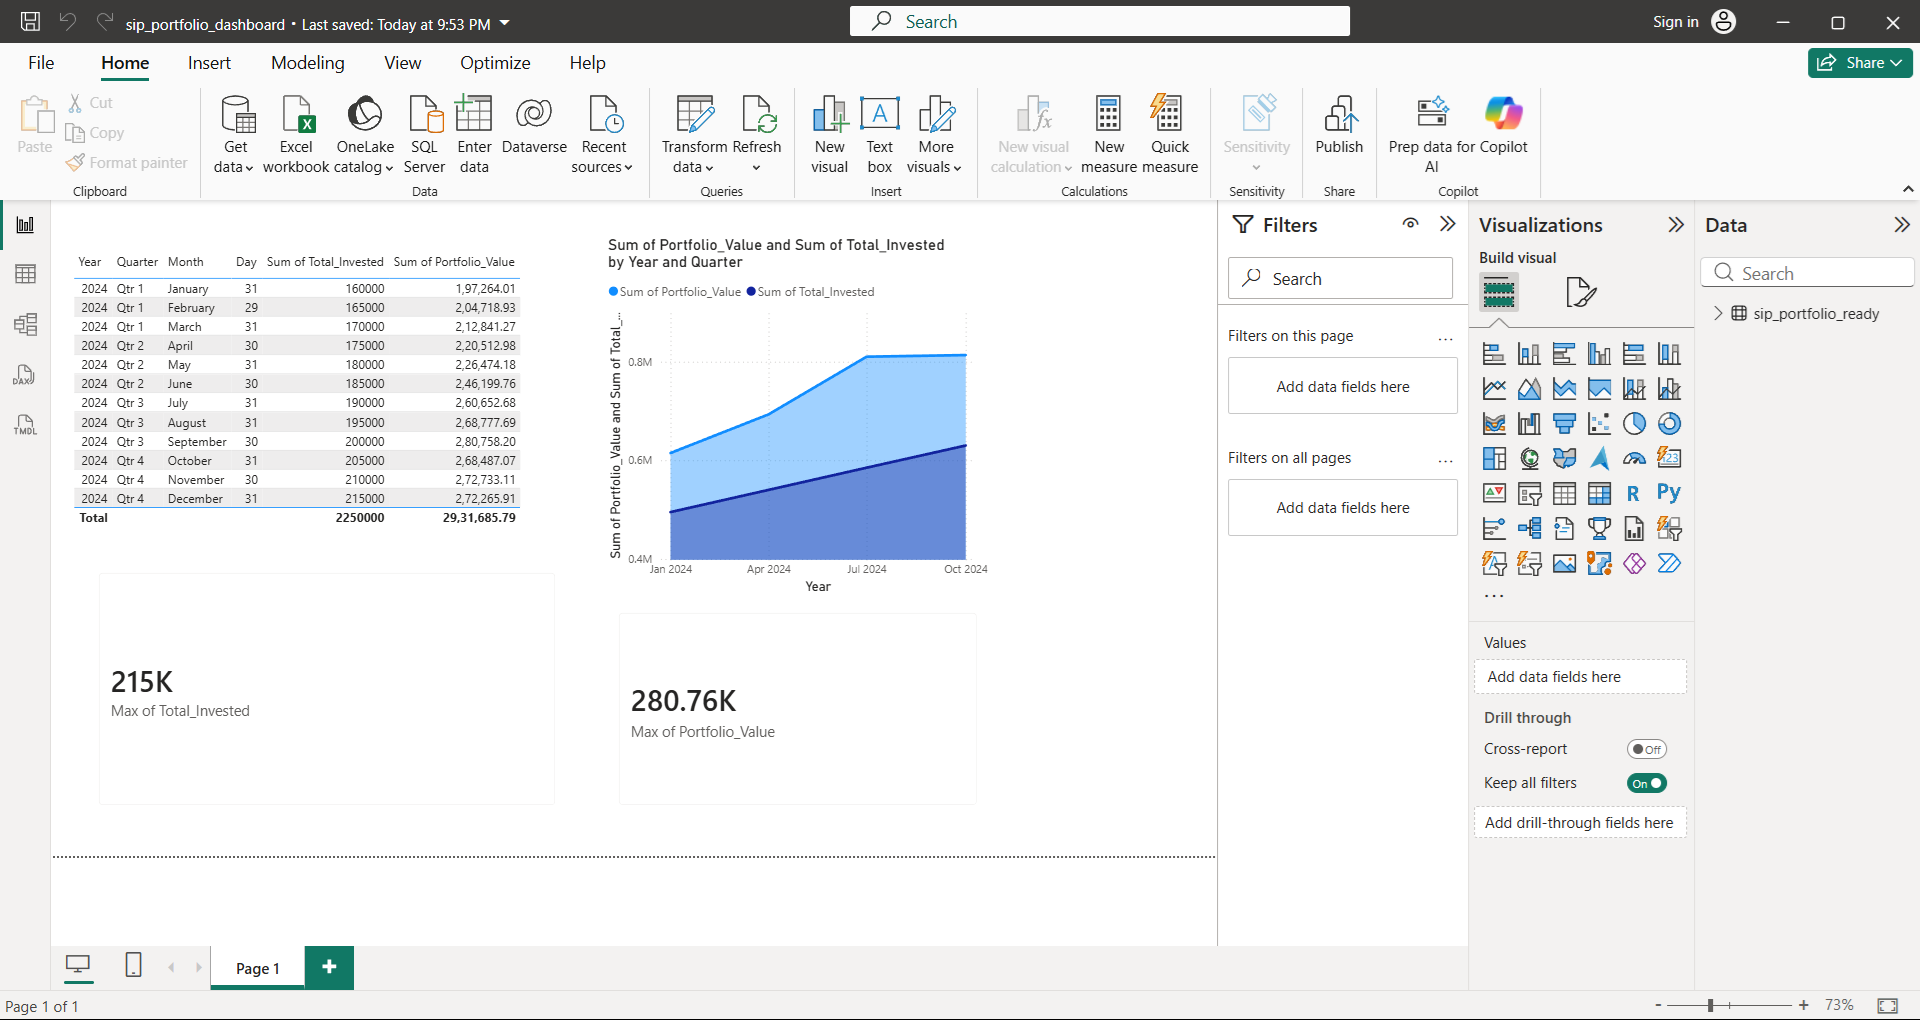

What the dashboard file says about the page in this screenshot:
{"tool":"powerbi","page":{"name":"Page 1","canvas":[1280,720],"ordinal":0},"visuals":[{"type":"areaChart","fields":{"Category":["sip_portfolio_ready.Date.Variation.Date Hierarchy.Year","sip_portfolio_ready.Date.Variation.Date Hierarchy.Quarter","sip_portfolio_ready.Date.Variation.Date Hierarchy.Month","sip_portfolio_ready.Date.Variation.Date Hierarchy.Day"],"Y":["Sum(sip_portfolio_ready.Portfolio_Value)","Sum(sip_portfolio_ready.Total_Invested)"]},"box":[606.5,38.4,426.8,399.3],"z":0},{"type":"tableEx","fields":{"Values":["sip_portfolio_ready.Date.Variation.Date Hierarchy.Year","sip_portfolio_ready.Date.Variation.Date Hierarchy.Quarter","sip_portfolio_ready.Date.Variation.Date Hierarchy.Month","sip_portfolio_ready.Date.Variation.Date Hierarchy.Day","Sum(sip_portfolio_ready.Total_Invested)","Sum(sip_portfolio_ready.Portfolio_Value)"]},"box":[19.2,52.1,535.2,369.1],"z":1},{"type":"cardVisual","fields":{"Data":["Max(sip_portfolio_ready.Total_Invested)"]},"box":[35.7,392.5,535.2,289.5],"z":2},{"type":"cardVisual","fields":{"Data":["Max(sip_portfolio_ready.Portfolio_Value)"]},"box":[607,437,427,245],"z":3}]}

Visuals, with their boxes on the page's 1280x720 design canvas (x1, y1, x2, y2). These are canvas units, not pixel positions in the 1920x1020 screenshot, which may show the page scaled, cropped or inside an application window:
areaChart - sip_portfolio_ready.Date.Variation.Date Hierarchy.Year x sip_portfolio_ready.Date.Variation.Date Hierarchy.Quarter: x1=606, y1=38, x2=1033, y2=438
tableEx - sip_portfolio_ready.Date.Variation.Date Hierarchy.Year x sip_portfolio_ready.Date.Variation.Date Hierarchy.Quarter: x1=19, y1=52, x2=554, y2=421
cardVisual - Max(sip_portfolio_ready.Total_Invested): x1=36, y1=392, x2=571, y2=682
cardVisual - Max(sip_portfolio_ready.Portfolio_Value): x1=607, y1=437, x2=1034, y2=682
